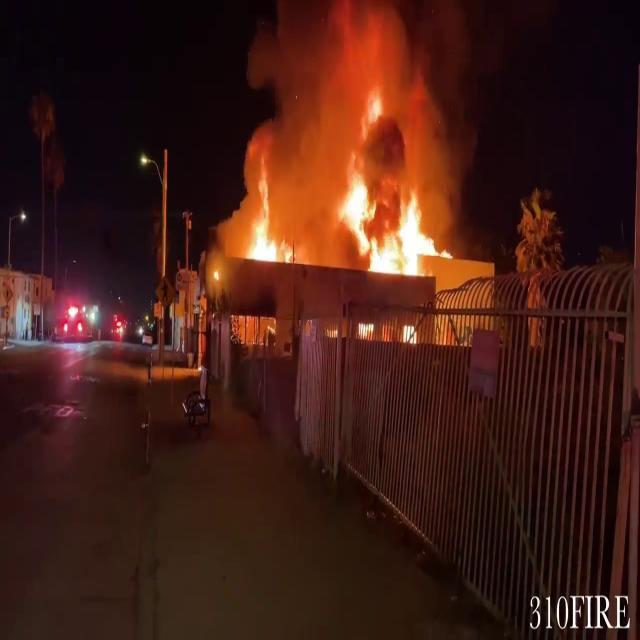Fire: (332, 91, 454, 282), (242, 171, 290, 271)
Smoke: (254, 4, 461, 196)
